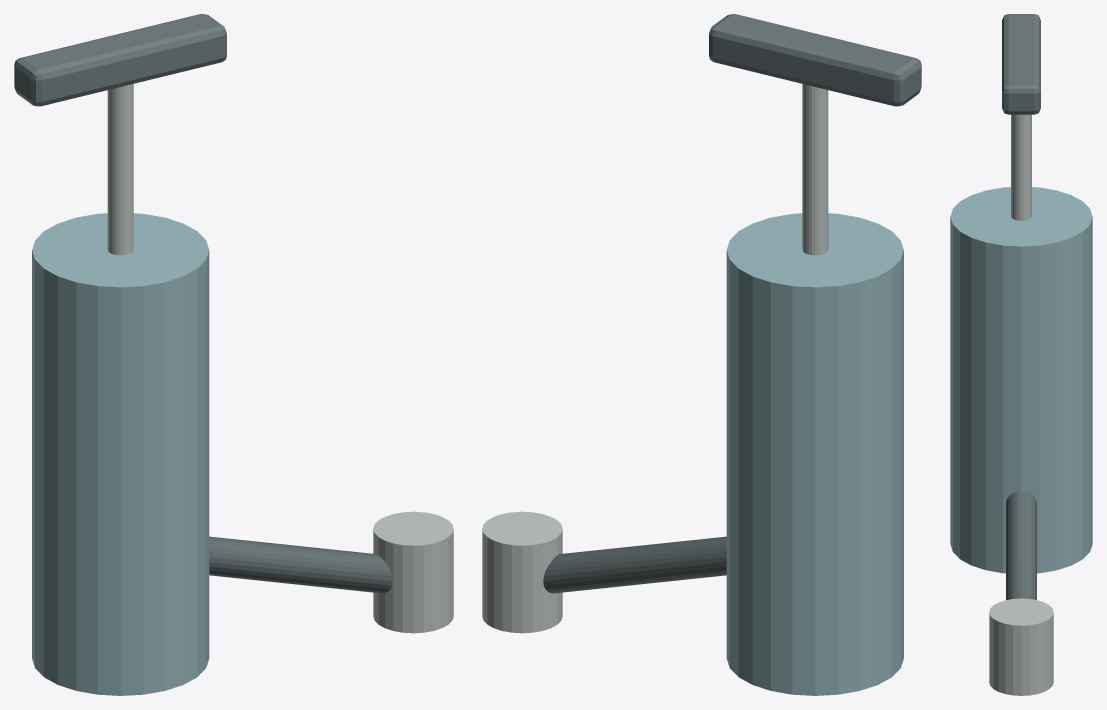
3 views of the same model, side by side, from view 1: azimuth 30°, elevation 25°; view 2: azimuth 150°, elevation 25°; view 3: azimuth 270°, elevation 25° (orthographic). The views are drawn at different scales.
Visible parts, largest first — view 1: filter housing, pump grip, intake strainer, intake hose, pump rod; view 2: filter housing, pump grip, intake strainer, intake hose, pump rod; view 3: filter housing, intake strainer, pump grip, intake hose, pump rod.
Boxes of the visible parts, box(x1,y1,x2,y2) form: filter housing: box(32, 213, 209, 695); pump grip: box(14, 14, 226, 106); intake strainer: box(373, 511, 453, 633); intake hose: box(209, 536, 392, 593); pump rod: box(107, 84, 133, 255); filter housing: box(726, 213, 903, 695); pump grip: box(709, 14, 921, 106); intake strainer: box(482, 511, 562, 633); intake hose: box(543, 536, 726, 593); pump rod: box(802, 84, 828, 255); filter housing: box(950, 187, 1092, 573); intake strainer: box(989, 598, 1053, 695); pump grip: box(1002, 14, 1040, 114); intake hose: box(1006, 491, 1036, 599); pump rod: box(1011, 114, 1031, 220).
Bounding box in the file's own units: 0.305 × 0.4425 × 0.11.
